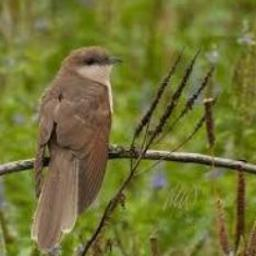Cuckoo: (31, 45, 124, 252)
